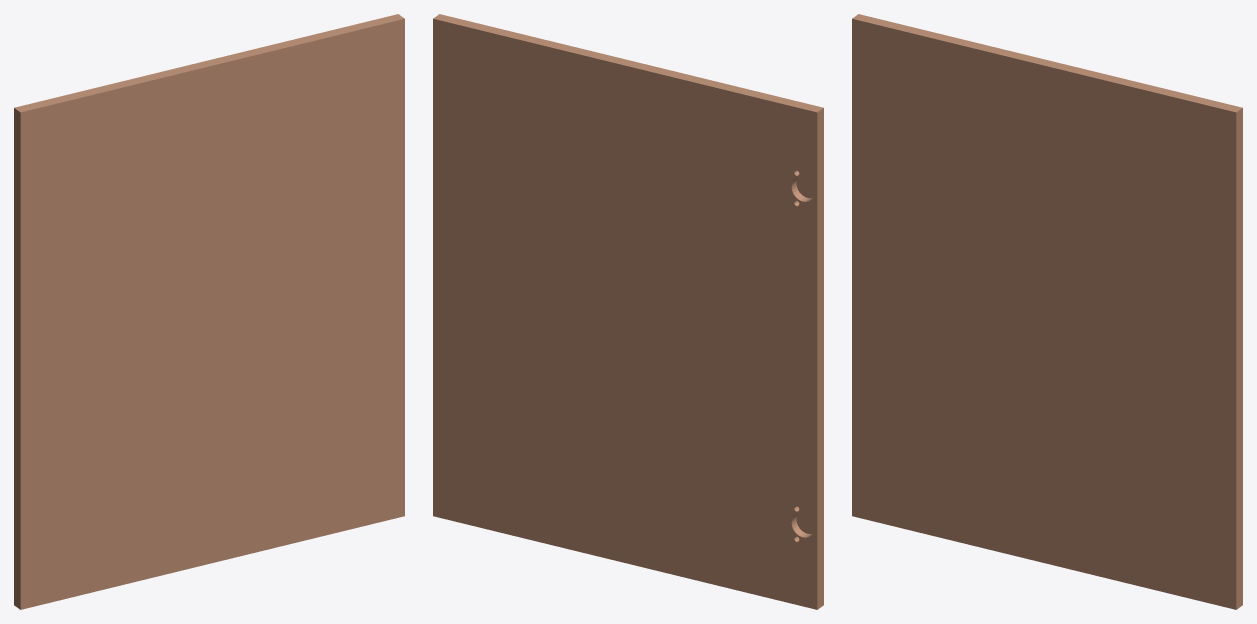
Rendered from B1_dor.glb.
The picture shows the model from 3 angles, left to right: view 1: azimuth 30°, elevation 25°; view 2: azimuth 150°, elevation 25°; view 3: azimuth 330°, elevation 25°; orthographic projection.
Size of the model in its own units: 597 by 738 by 17.4.
